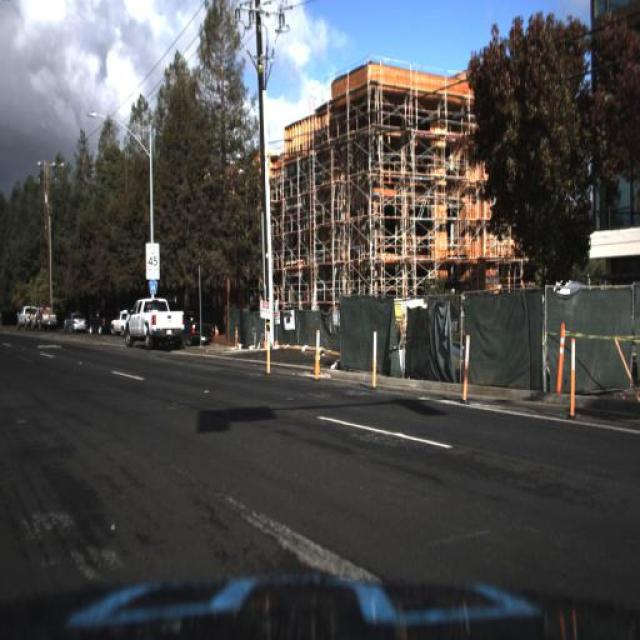car: (125, 294, 184, 350), (182, 307, 214, 347), (85, 303, 114, 338), (62, 308, 88, 336), (34, 302, 60, 327), (13, 302, 35, 328), (108, 310, 130, 334)
